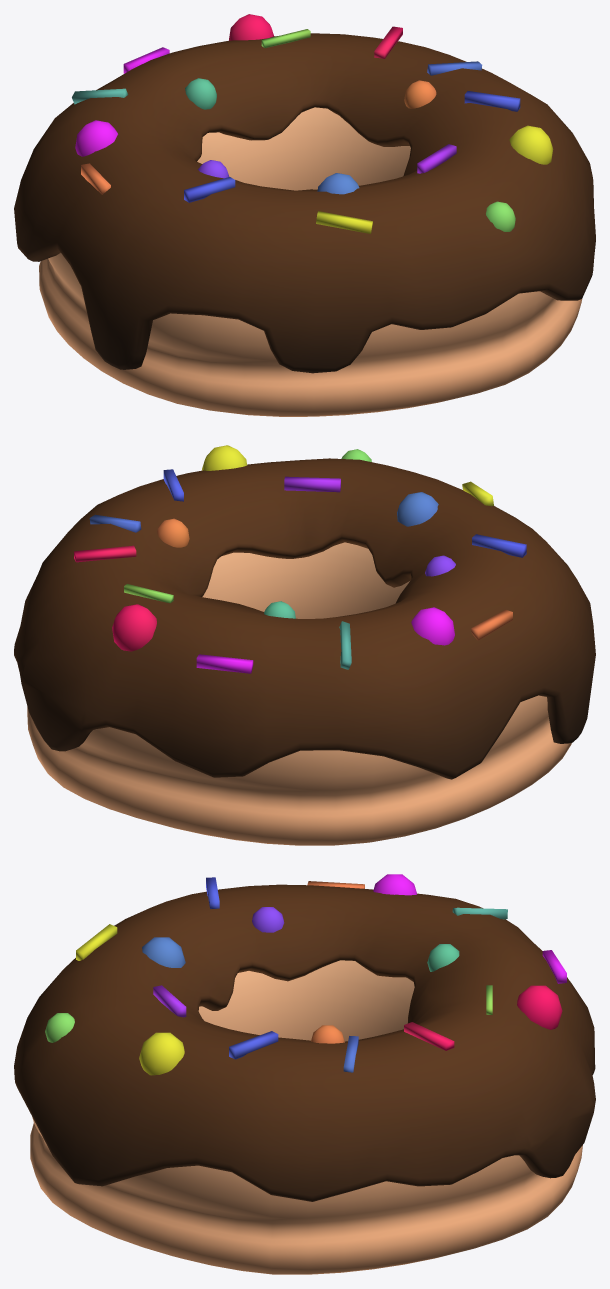
File: Donut.fbx
3 views of the same model, one above another, from view 1: azimuth 30°, elevation 25°; view 2: azimuth 150°, elevation 25°; view 3: azimuth 270°, elevation 25° (orthographic). The views are drawn at different scales.
Parts seen in each view (by area): view 1: Donut; view 2: Donut; view 3: Donut.
Part boxes in pixels (<box>): Donut: <box>14,14,595,416</box>; Donut: <box>14,445,595,845</box>; Donut: <box>14,874,595,1274</box>.
Bounding box in the file's own units: 15.64 × 6.49 × 15.59.
